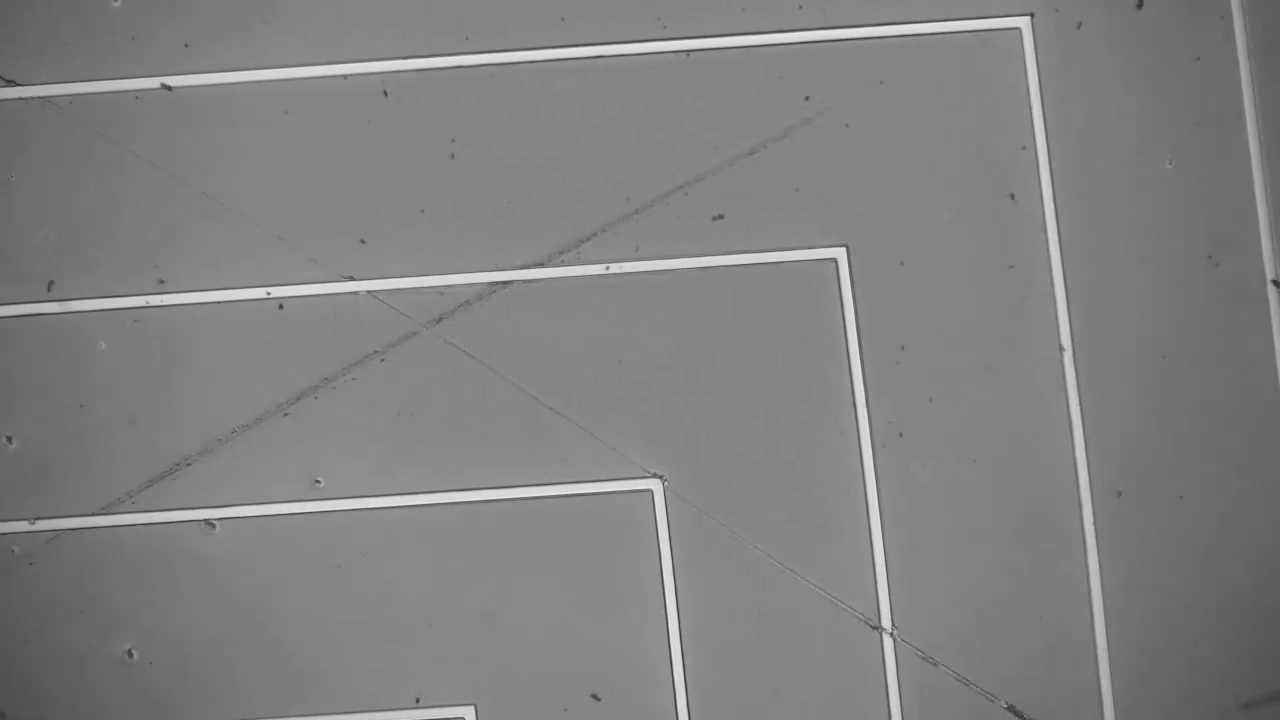edge_bite: (22, 515, 39, 537)
scratch: (41, 122, 823, 551), (357, 286, 1029, 717)
stains_enbedded: (152, 69, 175, 101), (1257, 270, 1279, 300)
